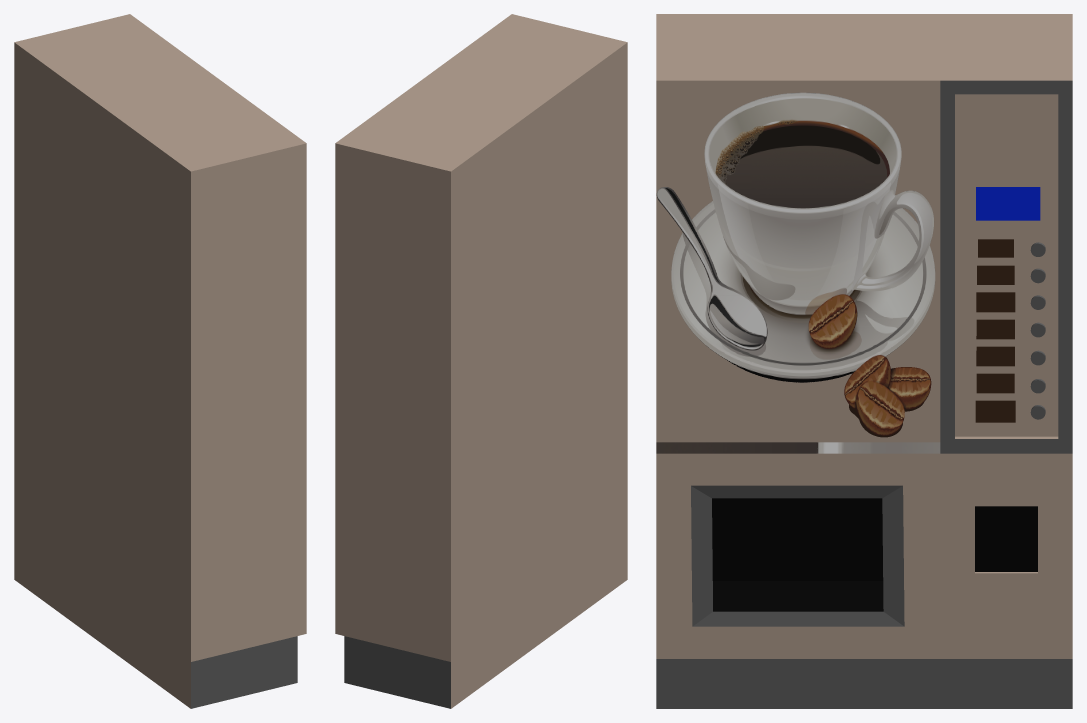
Rendered from cafererafinalcontexturas.fbx.
3 views of the same model, side by side, from view 1: azimuth 30°, elevation 25°; view 2: azimuth 150°, elevation 25°; view 3: azimuth 270°, elevation 25° (orthographic). The views are drawn at different scales.
Visible parts, largest first — view 1: Cube; view 2: Cube; view 3: Cube.
Part boxes in pixels (left/top/right/bottom): Cube: left=14, top=14, right=306, bottom=708; Cube: left=335, top=14, right=627, bottom=708; Cube: left=656, top=14, right=1072, bottom=708.
Bounding box in the file's own units: 174 × 770 × 459.
